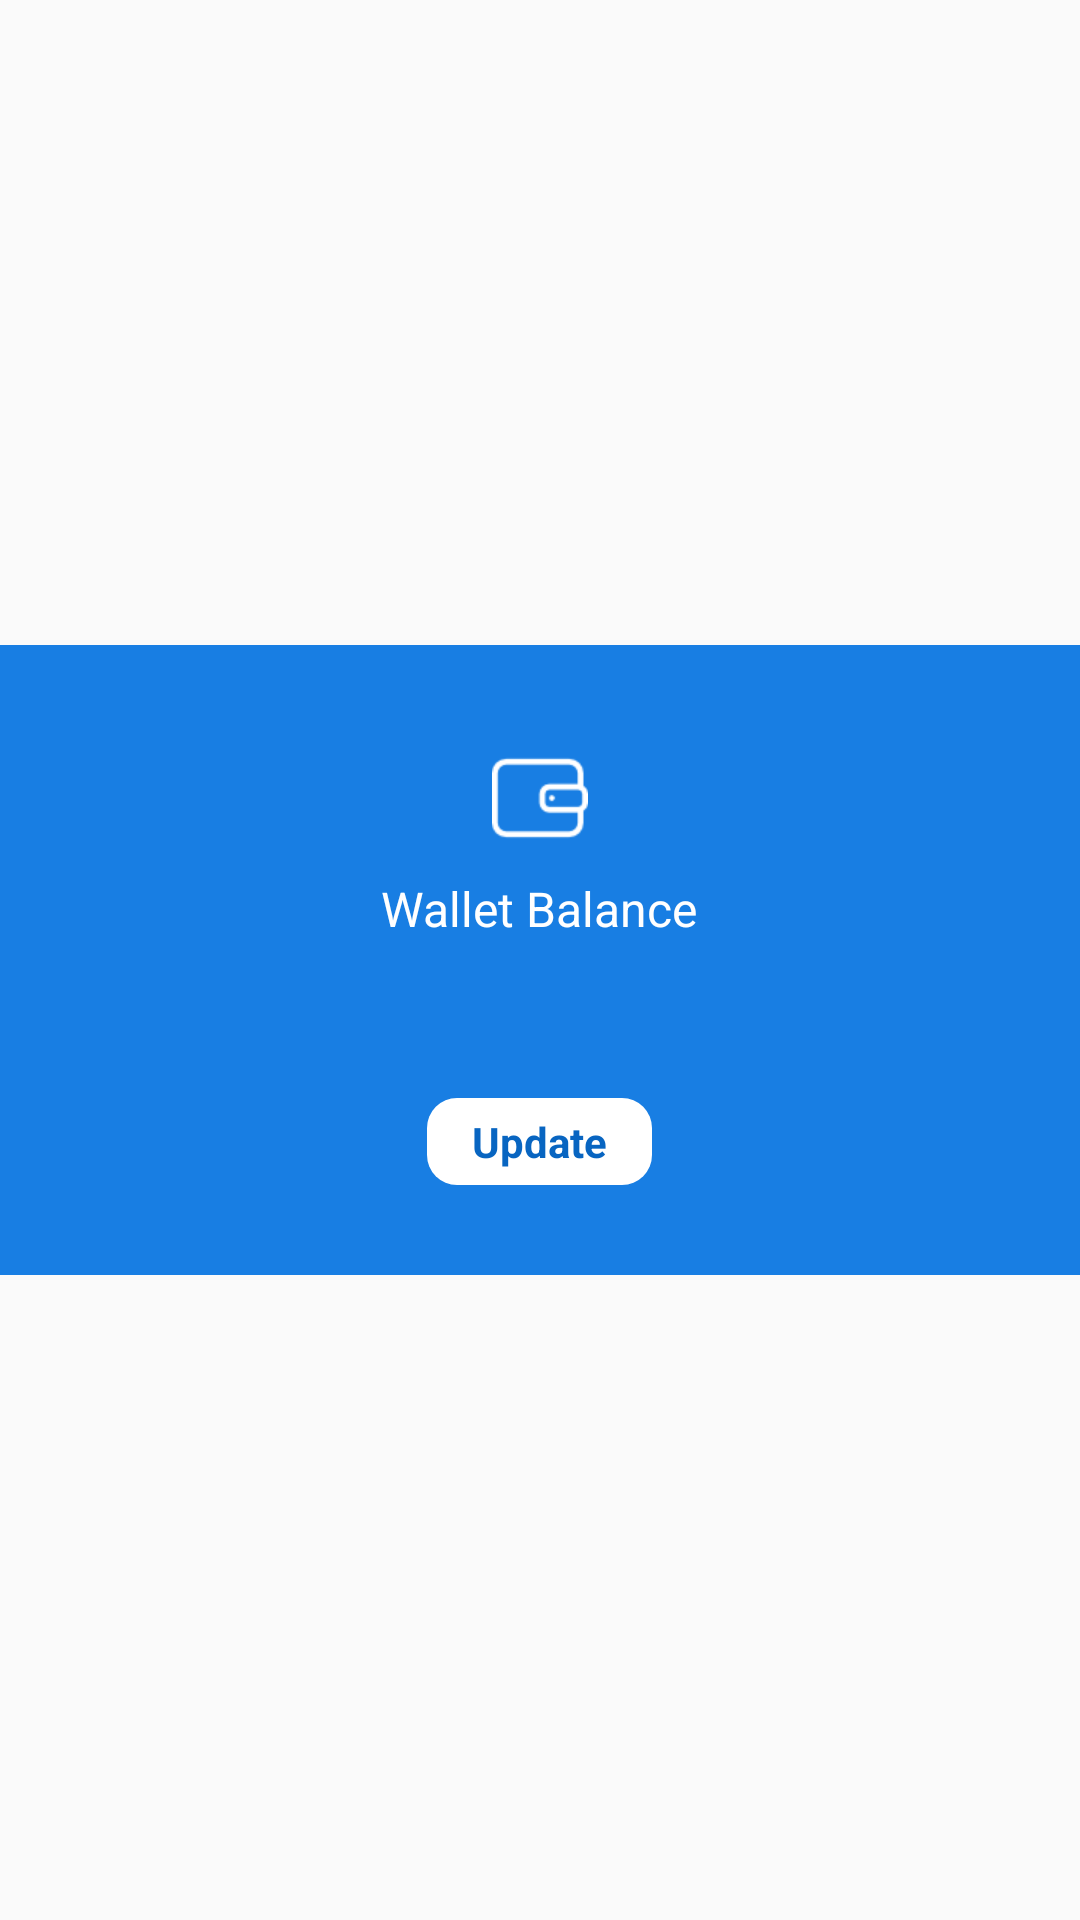

Point at icon controls on the screen. Image size 1080px×1920px, points as [x,y].
walletlight: [540,798]
